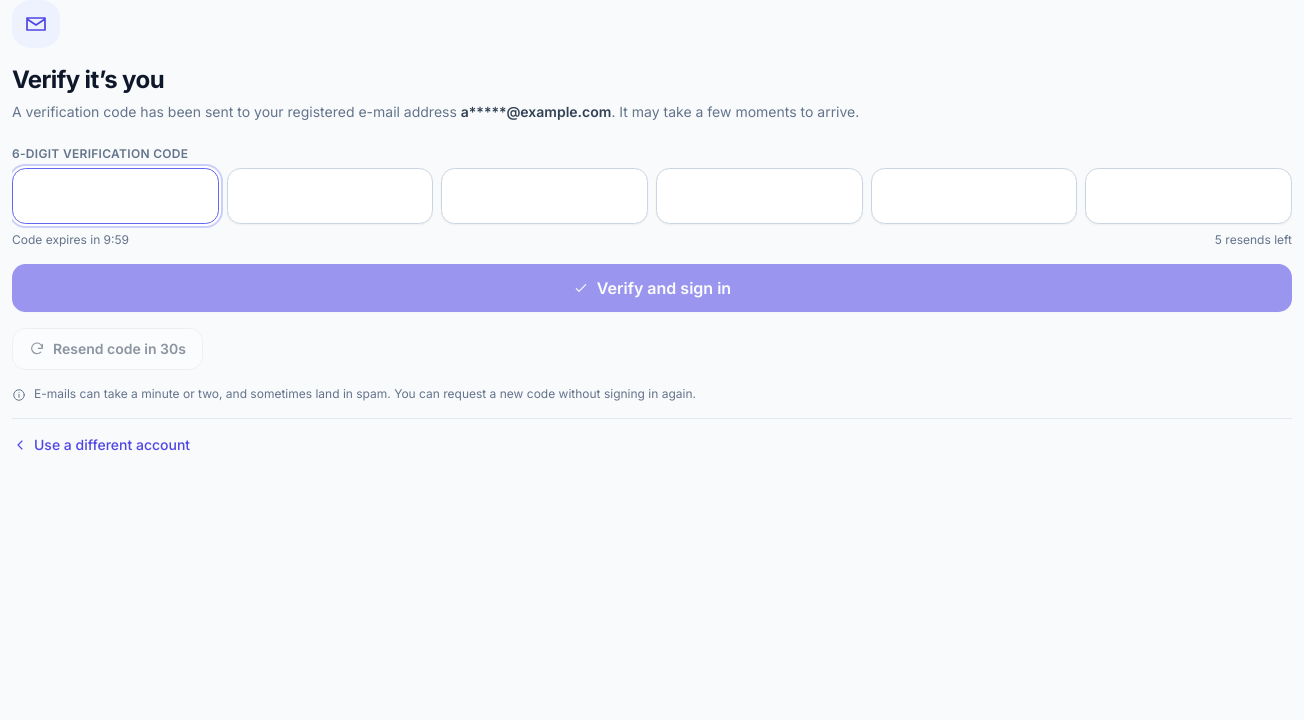
LoginVerification › offers a resend (not "invalid code") when the code has expired
Step 1. Type "123456" into the field named "Digit 1 of 6" → (115, 196), box [12, 168, 219, 224]
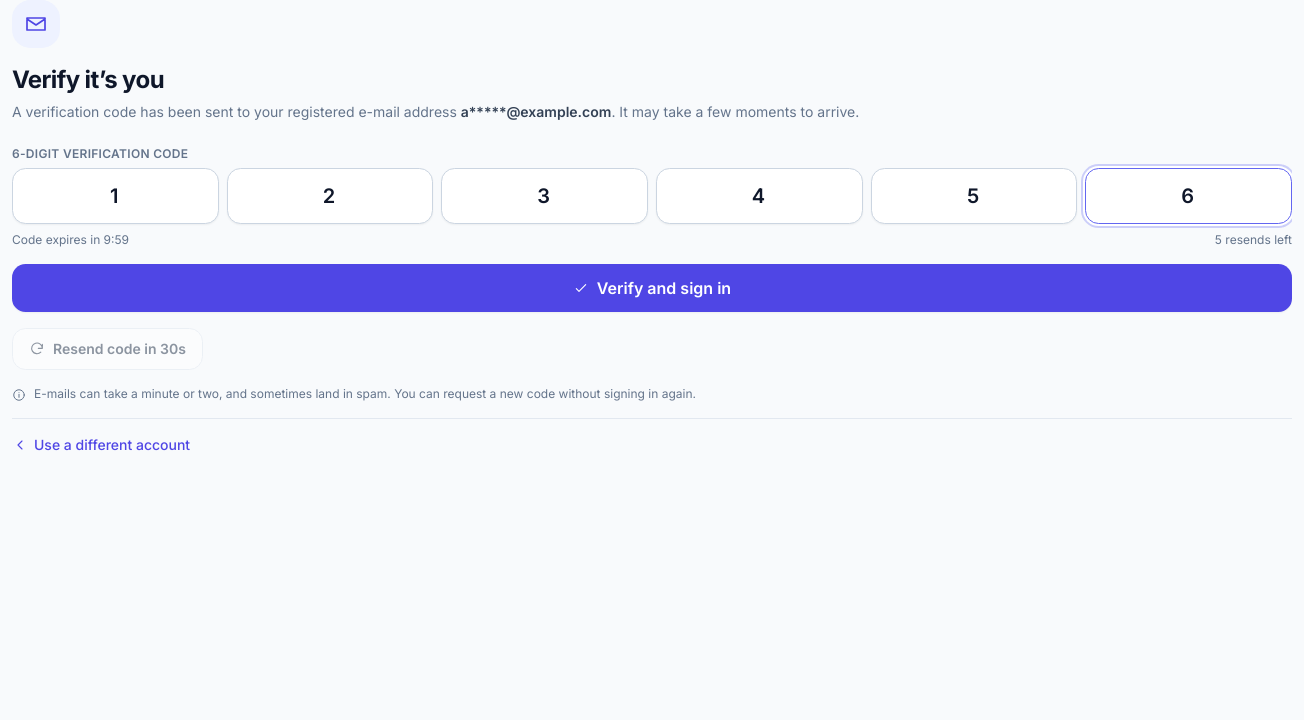
Step 2. Click the button "Verify and sign in" → click(652, 288), box [12, 264, 1292, 312]
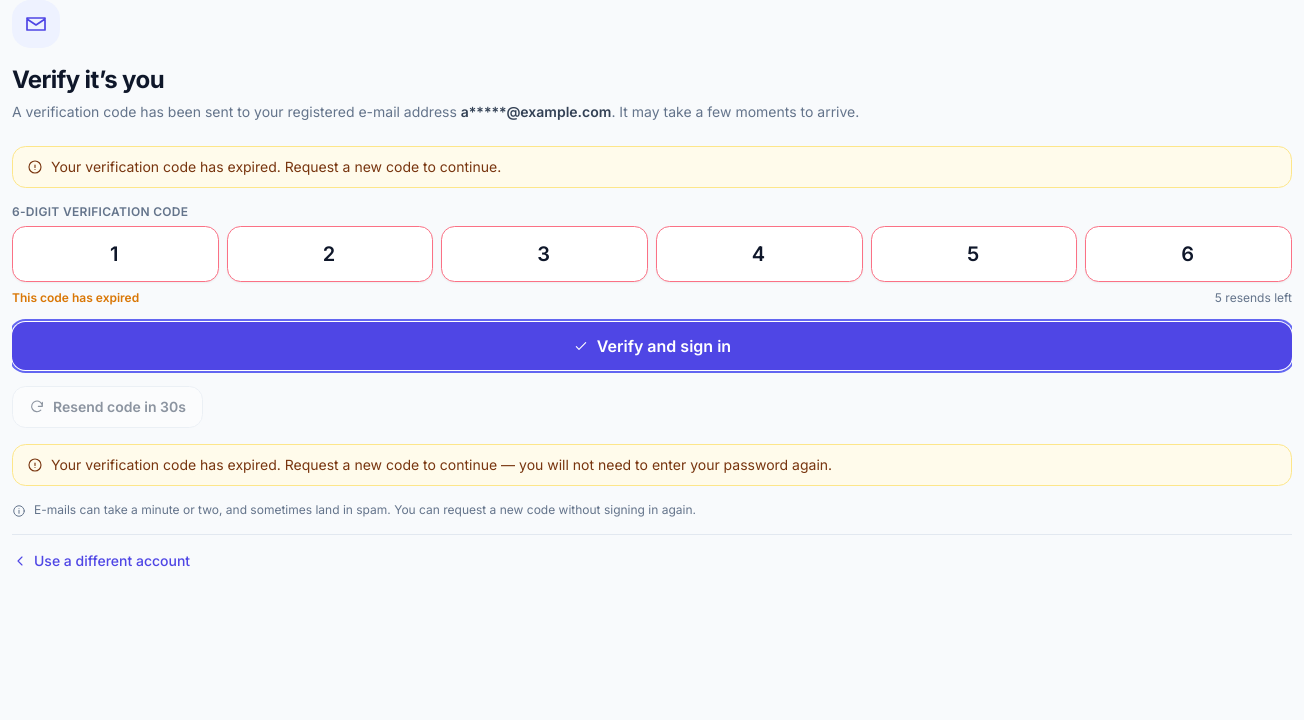
Result: the text "has expired. Request a new code to continue" is shown at [51, 158, 501, 175]
